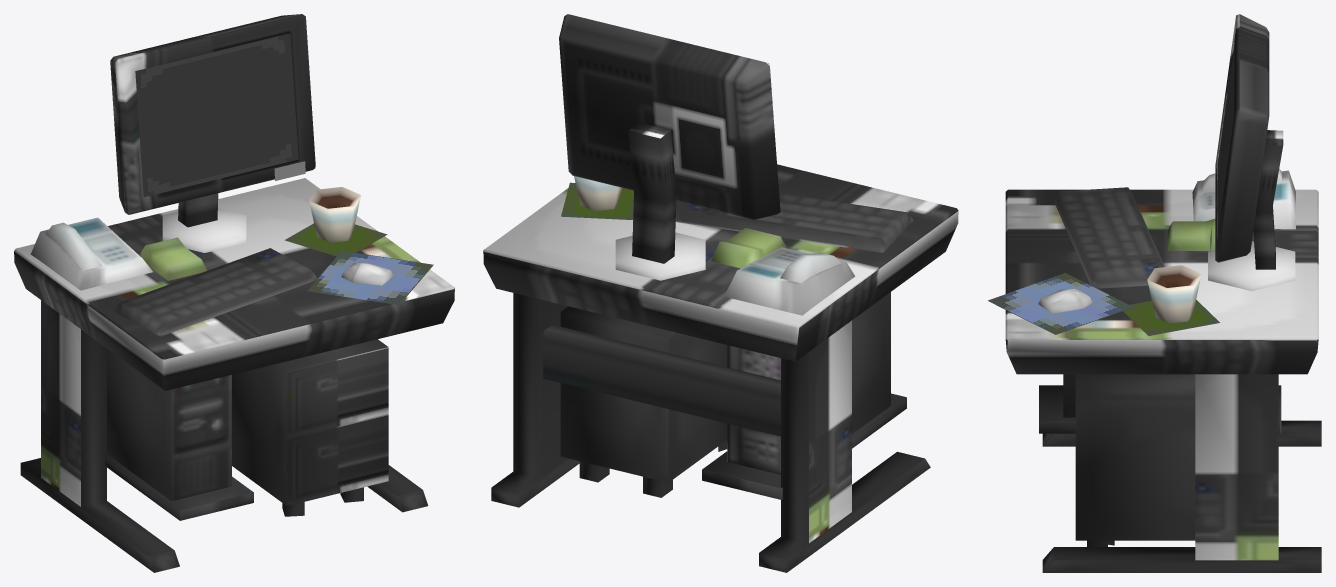
Rendered from int_oth_computer_ofc.dae.
3 renders of one model, left to right at view 1: azimuth 30°, elevation 25°; view 2: azimuth 150°, elevation 25°; view 3: azimuth 270°, elevation 25°, orthographic. The views are drawn at different scales.
Parts seen in each view (by area): view 1: int_oth_computer_ofc; view 2: int_oth_computer_ofc; view 3: int_oth_computer_ofc.
Part boxes in pixels (x1,y1,x2,y2): int_oth_computer_ofc: (14, 14, 454, 572); int_oth_computer_ofc: (483, 14, 958, 572); int_oth_computer_ofc: (988, 14, 1321, 572).
Size of the model in its own units: 30.99 by 43.23 by 29.17.
Materials: 3 (3 with a texture image).
